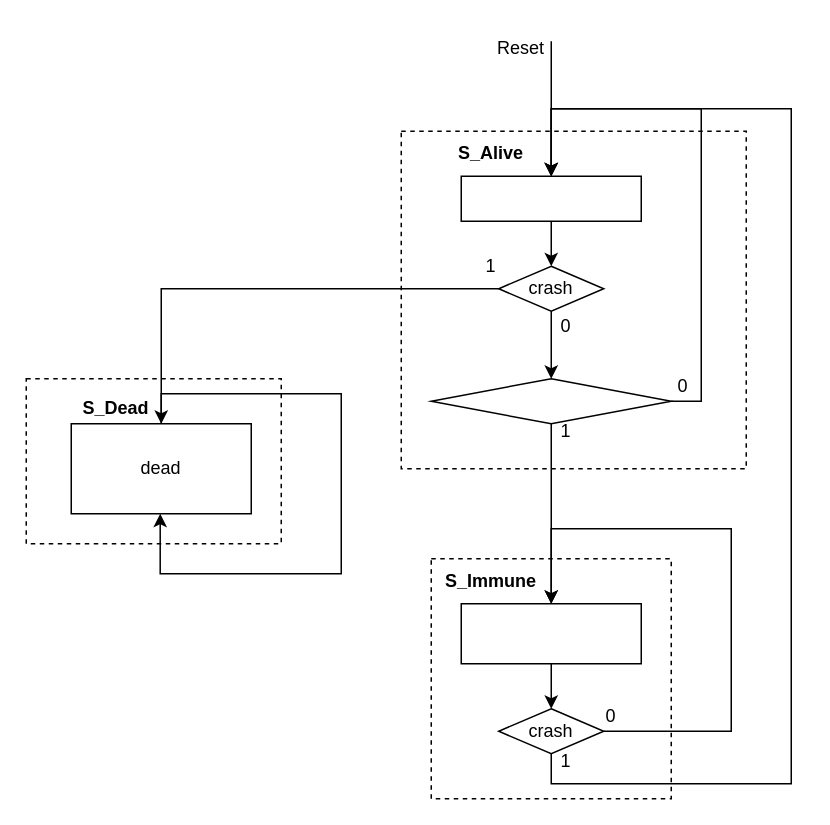
The diagram is 830 pixels wide and 825 high, and some of its shapes have lost their labels. Each missing label, with the centre of its shape:
immune: point 550,633
power_up_gained: point 550,400
